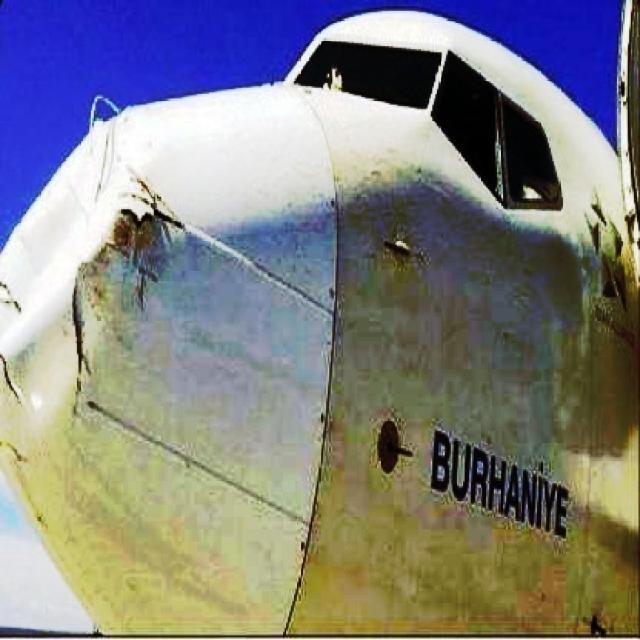dent: (3, 95, 169, 366)
